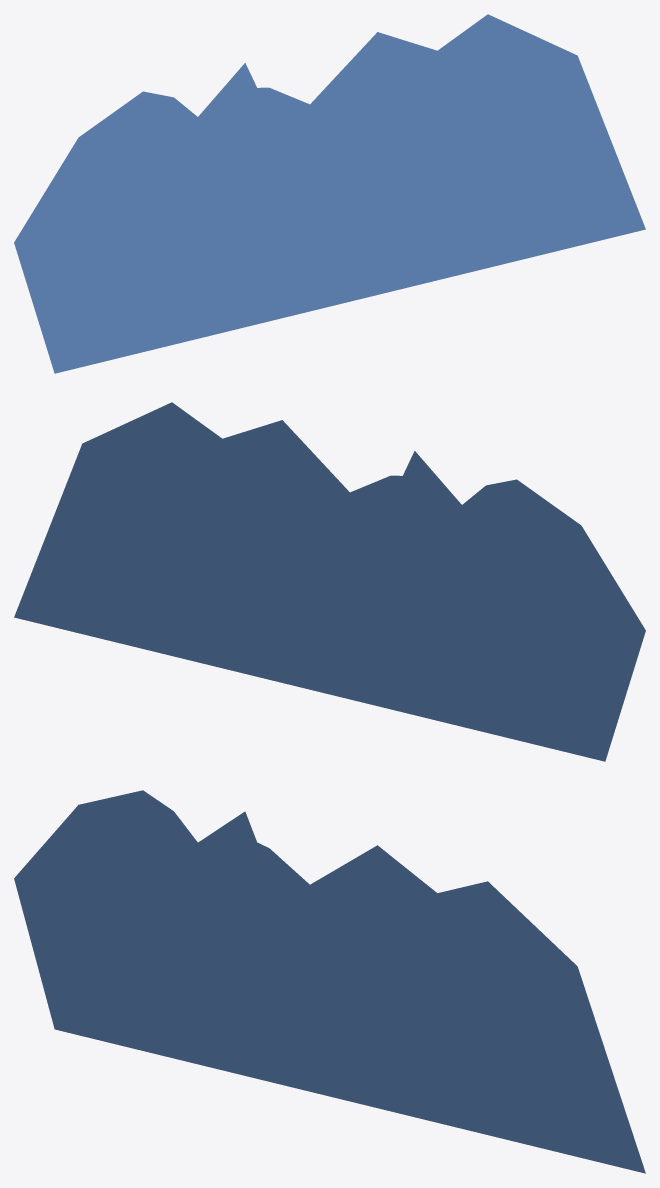
The model's file is Background_Cliffs.fbx.
The picture shows the model from 3 angles, top to bottom: view 1: azimuth 30°, elevation 25°; view 2: azimuth 150°, elevation 25°; view 3: azimuth 330°, elevation 25°; orthographic projection.
Visible parts, largest first — view 1: Background_Cliffs; view 2: Background_Cliffs; view 3: Background_Cliffs.
Part boxes in pixels (x1,y1,x2,y2): Background_Cliffs: (14, 14, 645, 373); Background_Cliffs: (14, 402, 645, 761); Background_Cliffs: (14, 790, 645, 1173).
Size of the model in its own units: 24.5 by 9.81 by 0.
1 material, 1 textured.
